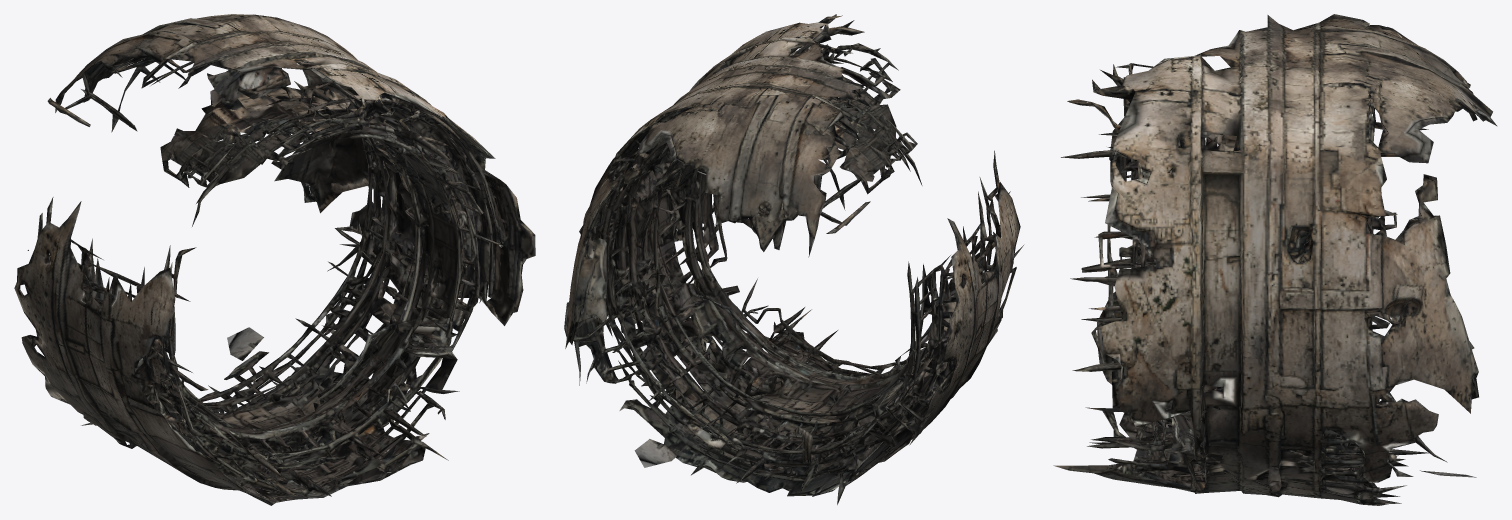
Rendered from ColonyFragment.fbx.
3 views of the same model, side by side, from view 1: azimuth 30°, elevation 25°; view 2: azimuth 150°, elevation 25°; view 3: azimuth 270°, elevation 25° (orthographic). The views are drawn at different scales.
Visible parts, largest first — view 1: texture_mapping; view 2: texture_mapping; view 3: texture_mapping.
Part boxes in pixels (x1,y1,x2,y2): texture_mapping: (14,14,535,505); texture_mapping: (564,14,1024,504); texture_mapping: (1053,14,1497,505).
Size of the model in its own units: 0.9936 by 0.9128 by 0.9965.
Materials: 1 (1 with a texture image).
